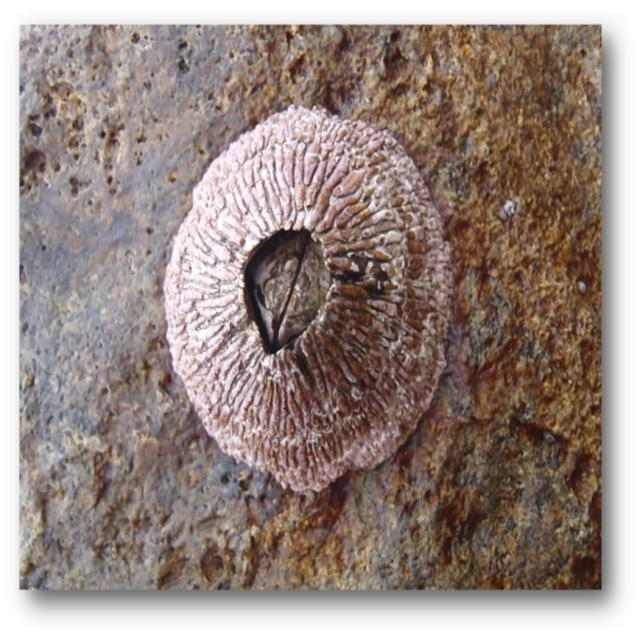barnacles: (166, 128, 448, 498)
